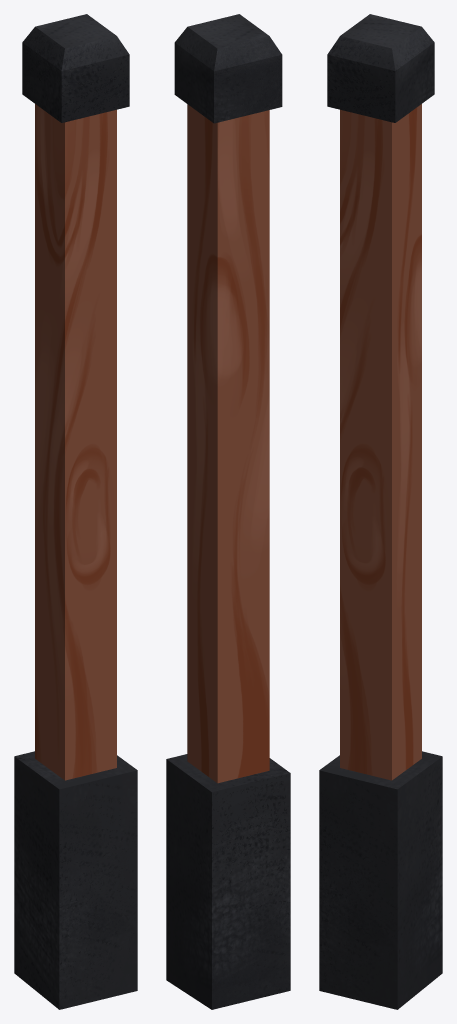
Rendered from signpost01.fbx.
The picture shows the model from 3 angles, left to right: view 1: azimuth 30°, elevation 25°; view 2: azimuth 210°, elevation 25°; view 3: azimuth 330°, elevation 25°; orthographic projection.
Visible parts, largest first — view 1: signpost01; view 2: signpost01; view 3: signpost01.
Part boxes in pixels (box(x1,y1,x2,y2)): signpost01: box(14, 14, 137, 1009); signpost01: box(166, 14, 290, 1009); signpost01: box(319, 14, 442, 1009).
Bounding box in the file's own units: 30.25 × 351 × 30.25.
